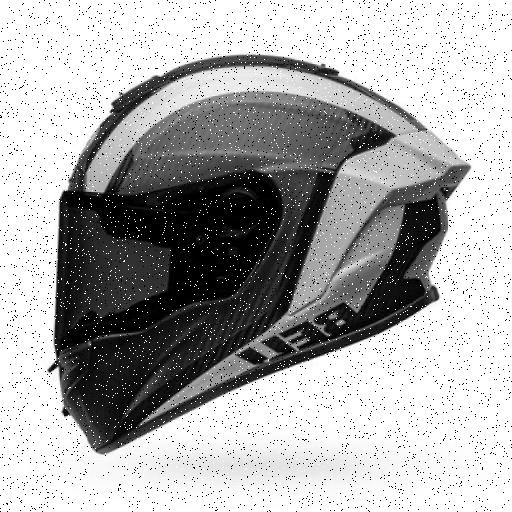Helmet: (56, 56, 468, 452)
